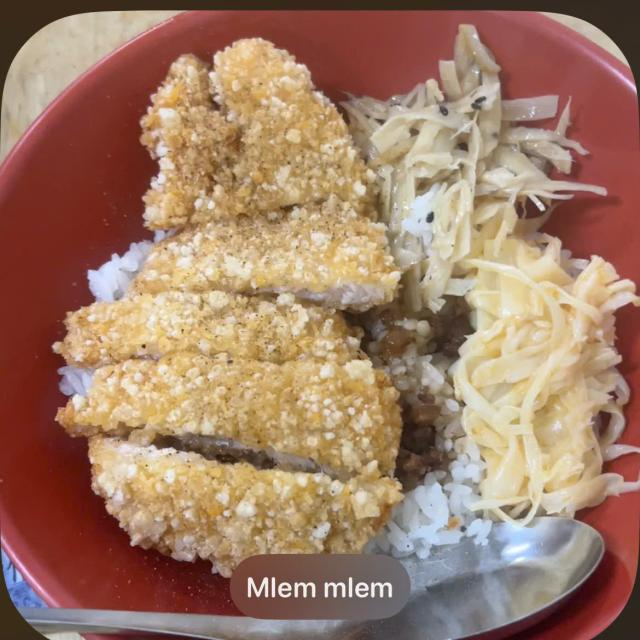ga_chien: (154, 79, 376, 582)
